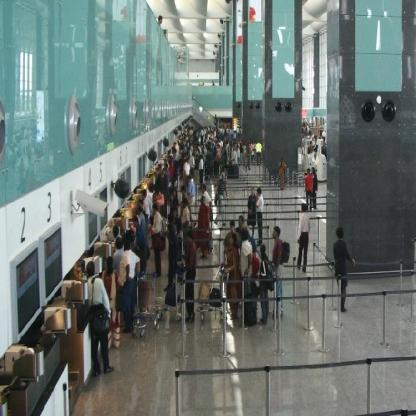airport-trolley: (191, 264, 229, 323), (130, 272, 160, 340)
